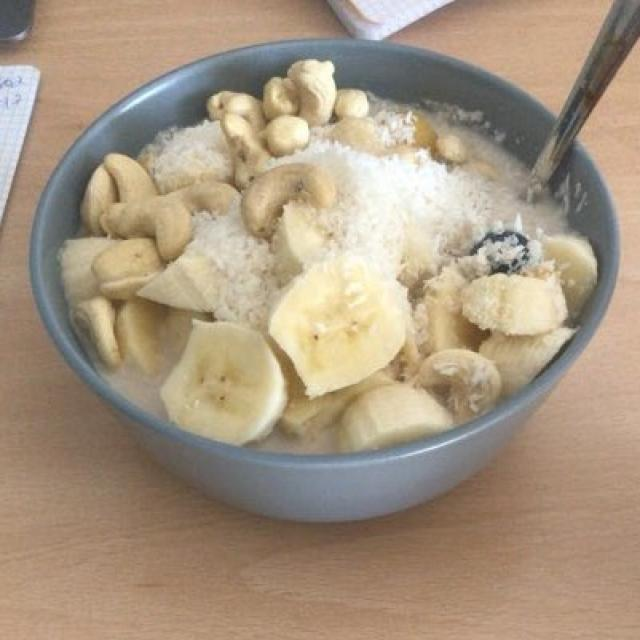banana: (145, 209, 590, 434)
blueberries: (471, 221, 527, 282)
cashew-nut: (57, 63, 479, 355)
coconut: (138, 115, 540, 342)
